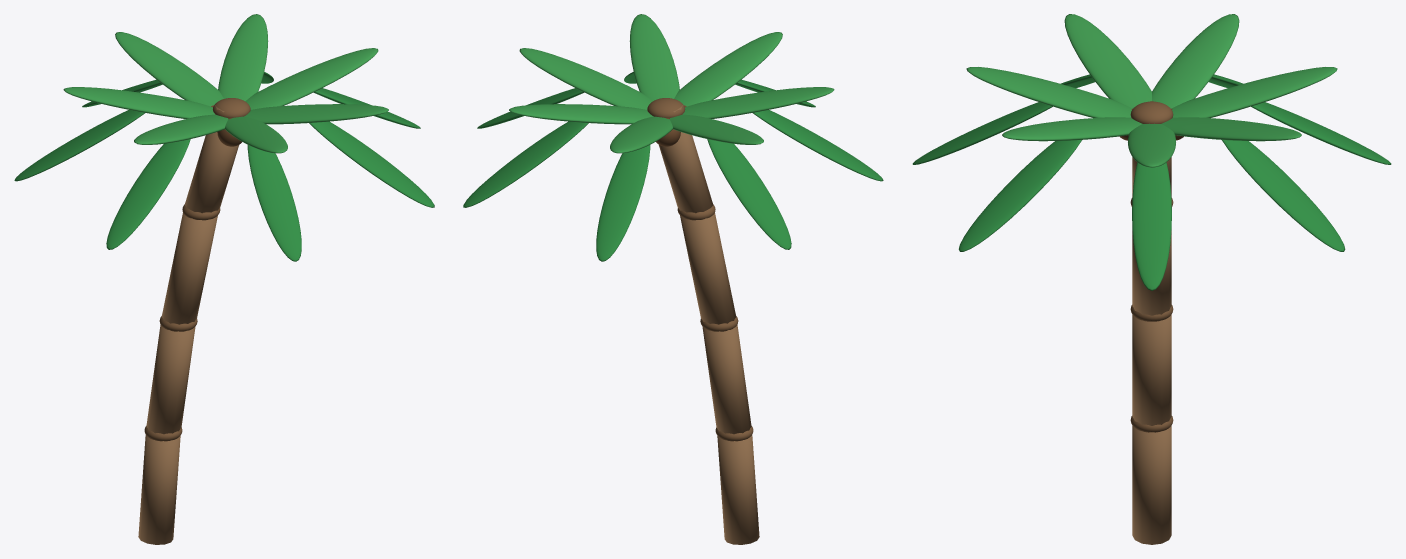
Rendered from palmera.glb.
3 renders of one model, left to right at view 1: azimuth 30°, elevation 25°; view 2: azimuth 150°, elevation 25°; view 3: azimuth 270°, elevation 25°, orthographic. The views are drawn at different scales.
Parts seen in each view (by area): view 1: Cylinder.002, Cylinder, Cylinder.001, Sphere.015, Sphere.013, Sphere.006, Sphere.008, Sphere.004, Cylinder.003, Sphere.017, Sphere.010, Sphere.016 (+5 smaller); view 2: Cylinder.002, Cylinder, Cylinder.001, Sphere.009, Sphere.011, Sphere.016, Sphere.014, Sphere.004, Cylinder.003, Sphere.007, Sphere.012, Sphere.006 (+5 smaller); view 3: Cylinder, Sphere.005, Cylinder.001, Sphere.010, Sphere.012, Sphere.007, Sphere.017, Sphere.008, Sphere.014, Sphere.006, Sphere.016, Sphere.009 (+4 smaller).
Part boxes in pixels (x1,y1,x2,y2): Cylinder.002: [161, 213, 217, 324]; Cylinder: [138, 435, 180, 544]; Cylinder.001: [146, 325, 195, 434]; Sphere.015: [247, 145, 301, 261]; Sphere.013: [106, 139, 190, 249]; Sphere.006: [218, 14, 268, 101]; Sphere.008: [115, 32, 223, 106]; Sphere.004: [245, 48, 378, 109]; Cylinder.003: [184, 105, 238, 213]; Sphere.017: [309, 121, 434, 207]; Sphere.010: [63, 87, 214, 118]; Sphere.016: [245, 104, 388, 124]; Cylinder.002: [680, 213, 736, 324]; Cylinder: [717, 435, 759, 544]; Cylinder.001: [702, 325, 751, 434]; Sphere.009: [596, 145, 650, 261]; Sphere.011: [707, 139, 791, 249]; Sphere.016: [629, 14, 679, 101]; Sphere.014: [674, 32, 782, 106]; Sphere.004: [519, 48, 652, 109]; Cylinder.003: [659, 105, 713, 213]; Sphere.007: [463, 121, 588, 207]; Sphere.012: [683, 87, 834, 118]; Sphere.006: [509, 104, 652, 124]; Cylinder: [1132, 425, 1171, 544]; Sphere.005: [1132, 162, 1171, 290]; Cylinder.001: [1132, 314, 1171, 425]; Sphere.010: [1152, 14, 1239, 108]; Sphere.012: [1064, 14, 1151, 108]; Sphere.007: [1222, 140, 1345, 251]; Sphere.017: [958, 140, 1081, 251]; Sphere.008: [1172, 67, 1337, 117]; Sphere.014: [966, 67, 1131, 117]; Sphere.006: [1161, 117, 1301, 141]; Sphere.016: [1002, 117, 1142, 141]; Sphere.009: [1251, 102, 1391, 164].
Size of the model in its own units: 2.84 by 3.3 by 2.91.
